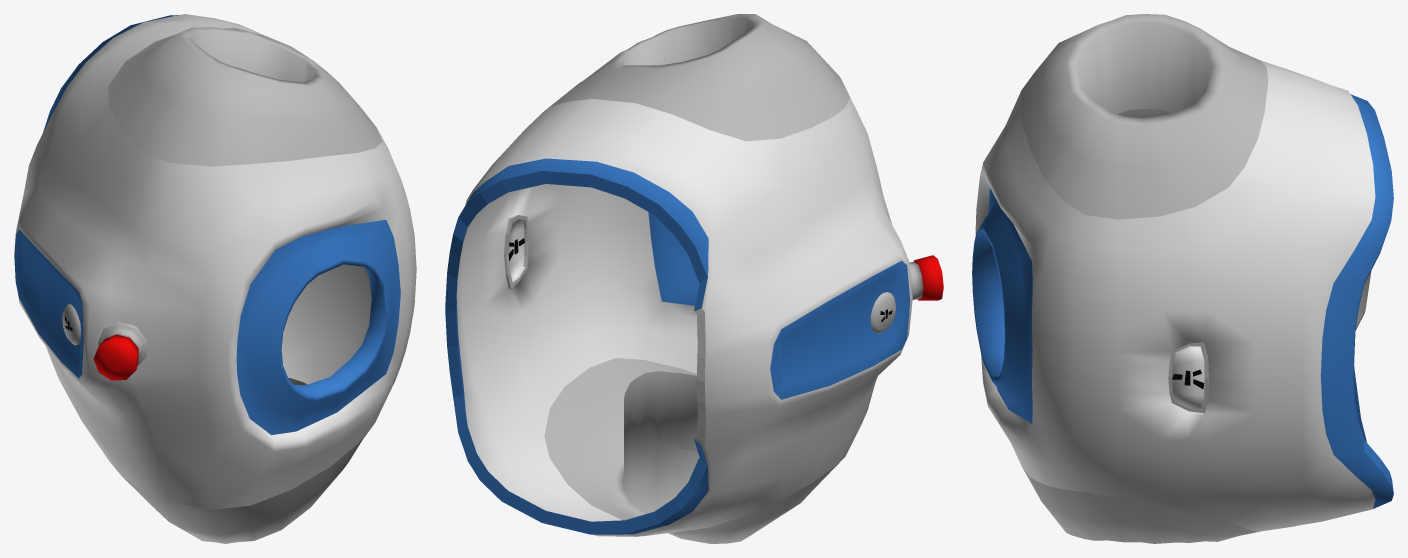
File: Torso.dae
3 renders of one model, left to right at view 1: azimuth 30°, elevation 25°; view 2: azimuth 150°, elevation 25°; view 3: azimuth 270°, elevation 25°, orthographic. The views are drawn at different scales.
Parts seen in each view (by area): view 1: Torso; view 2: Torso; view 3: Torso.
Part boxes in pixels (<box>): Torso: <box>14,14,416,543</box>; Torso: <box>445,14,943,543</box>; Torso: <box>972,14,1393,543</box>.
Bounding box in the file's own units: 0.2859 × 0.3757 × 0.2797.
